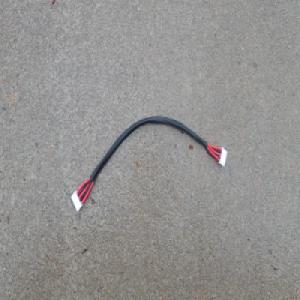Wire: (70, 114, 228, 213)
